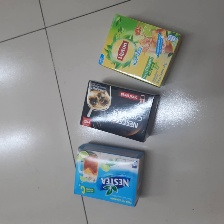CF Viet: (79, 79, 157, 142)
LipTon: (98, 13, 182, 89)
Nestea: (73, 141, 143, 209)
